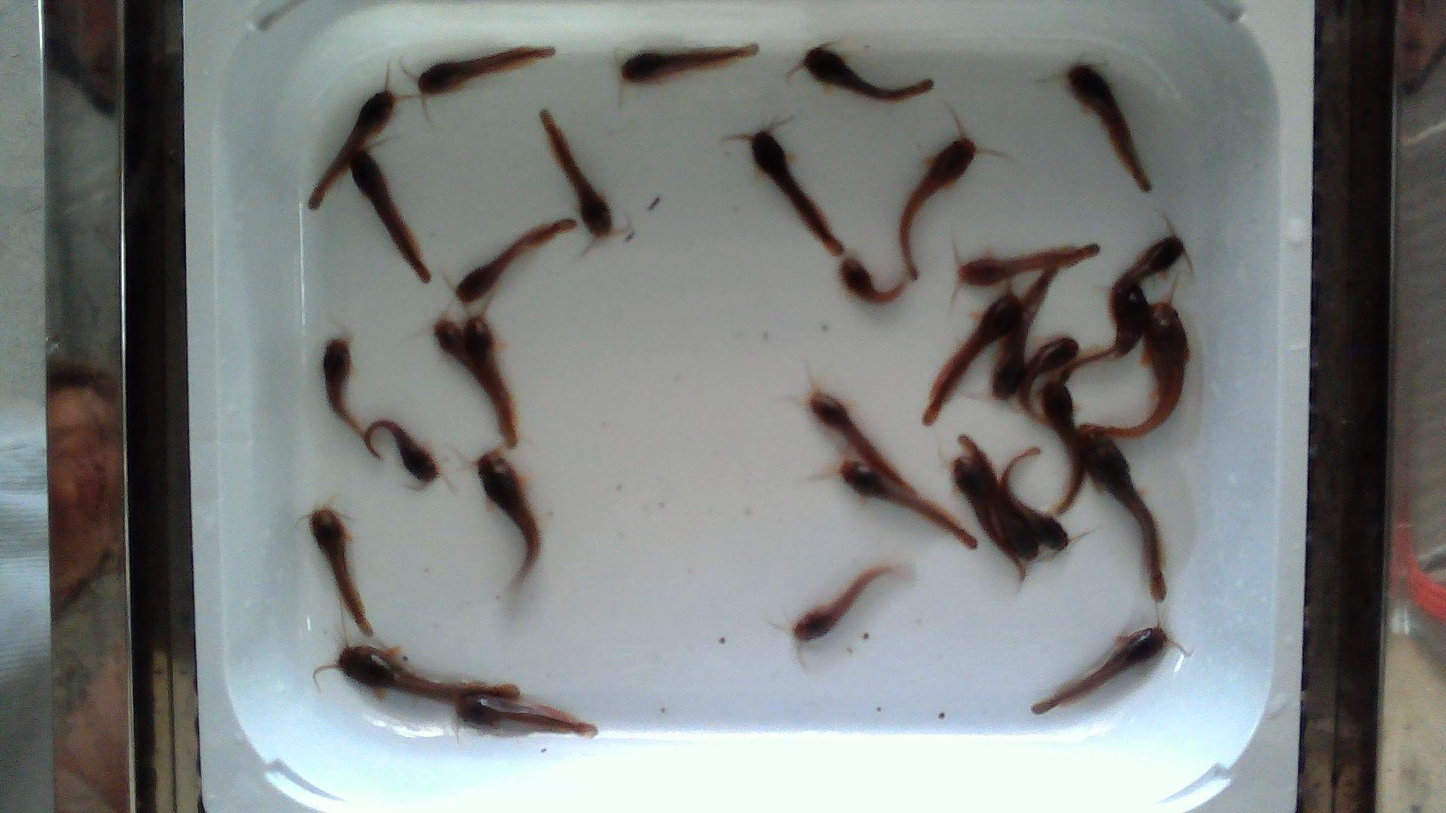lele: (1074, 426, 1166, 605), (1086, 304, 1189, 437), (923, 292, 1020, 424), (844, 460, 978, 552), (1033, 627, 1167, 713), (751, 130, 843, 254), (810, 394, 920, 494), (984, 263, 1065, 398), (338, 642, 516, 701), (900, 136, 975, 276), (956, 438, 1042, 560), (351, 151, 430, 282), (1068, 65, 1150, 190), (309, 89, 395, 207), (456, 220, 576, 304), (1058, 285, 1151, 387), (539, 110, 613, 236), (954, 457, 1024, 584), (432, 317, 504, 437), (311, 508, 373, 635), (478, 452, 539, 576), (1000, 445, 1069, 554), (463, 316, 519, 447), (794, 567, 892, 640), (803, 47, 932, 101), (1039, 378, 1085, 516), (418, 48, 554, 94), (1115, 235, 1182, 326), (959, 244, 1099, 285), (459, 695, 595, 734), (1021, 336, 1078, 423), (621, 45, 757, 81), (366, 419, 436, 481), (323, 340, 362, 434), (840, 257, 905, 303)
